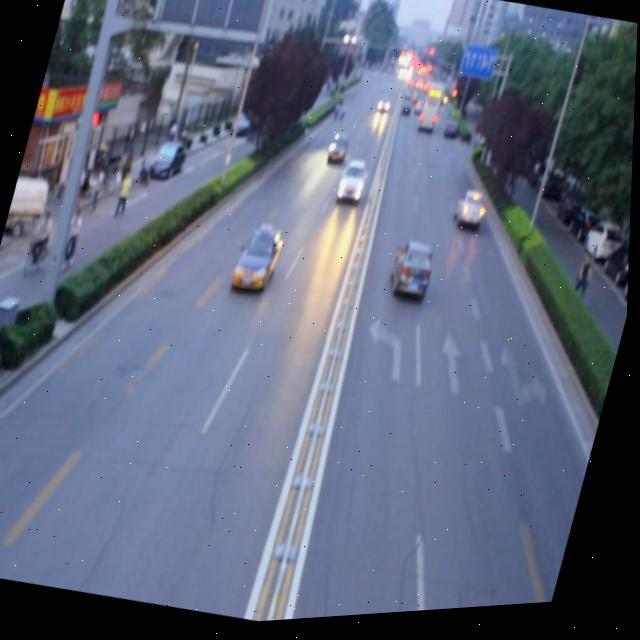car: (231, 222, 289, 300), (387, 237, 441, 308), (451, 188, 492, 237), (336, 159, 371, 210)
